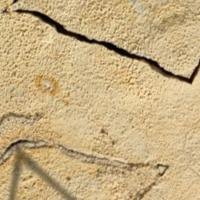crack: (0, 0, 199, 101)
